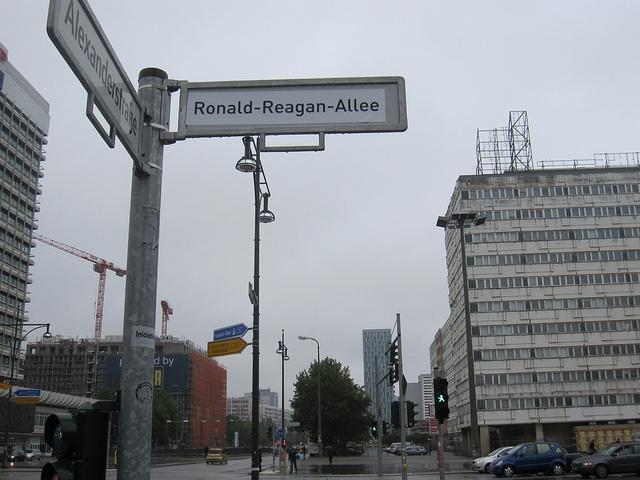car: (570, 440, 640, 480), (491, 443, 566, 476), (471, 446, 513, 474), (556, 442, 584, 474), (206, 449, 228, 465), (7, 446, 25, 462), (348, 444, 368, 454), (26, 449, 42, 461), (387, 443, 401, 453), (406, 448, 423, 456), (416, 446, 428, 455), (396, 447, 402, 456)
